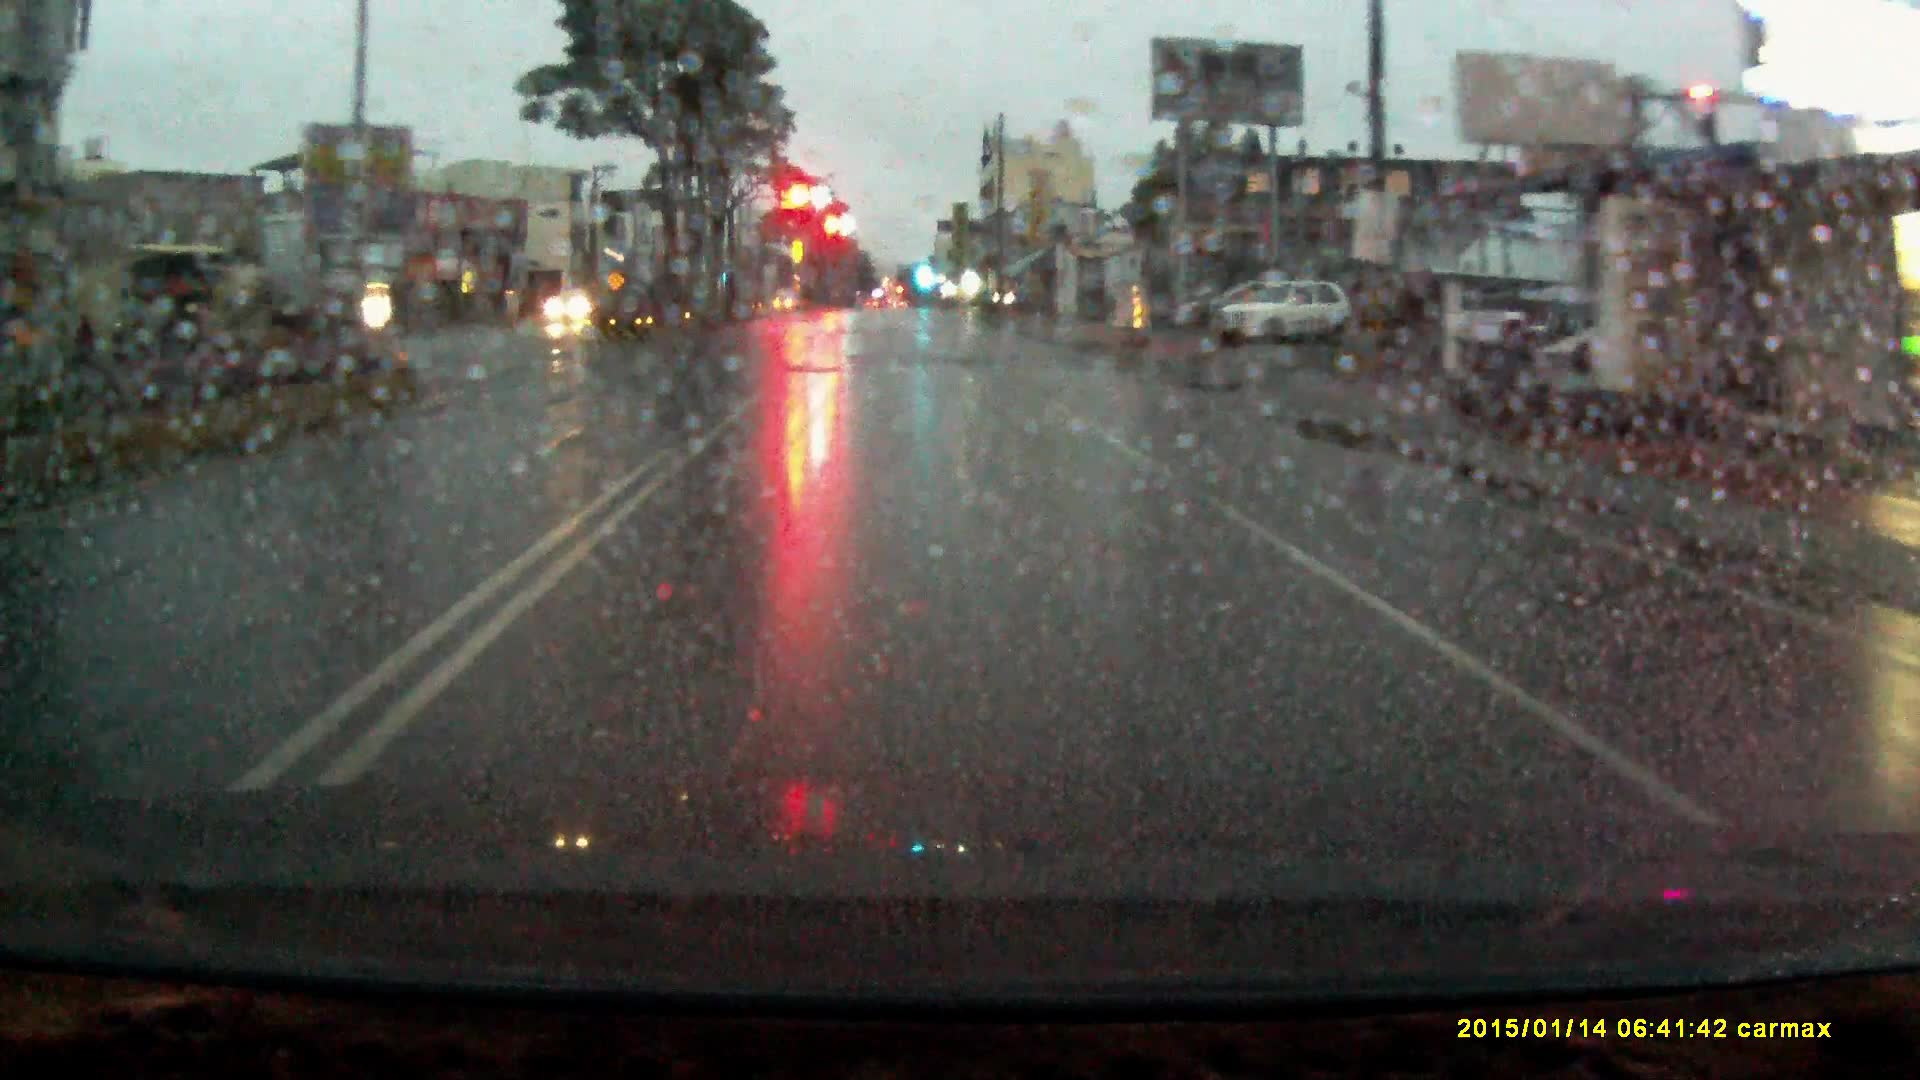vehicle: (1212, 277, 1364, 348), (1185, 286, 1294, 349), (549, 291, 603, 328)
